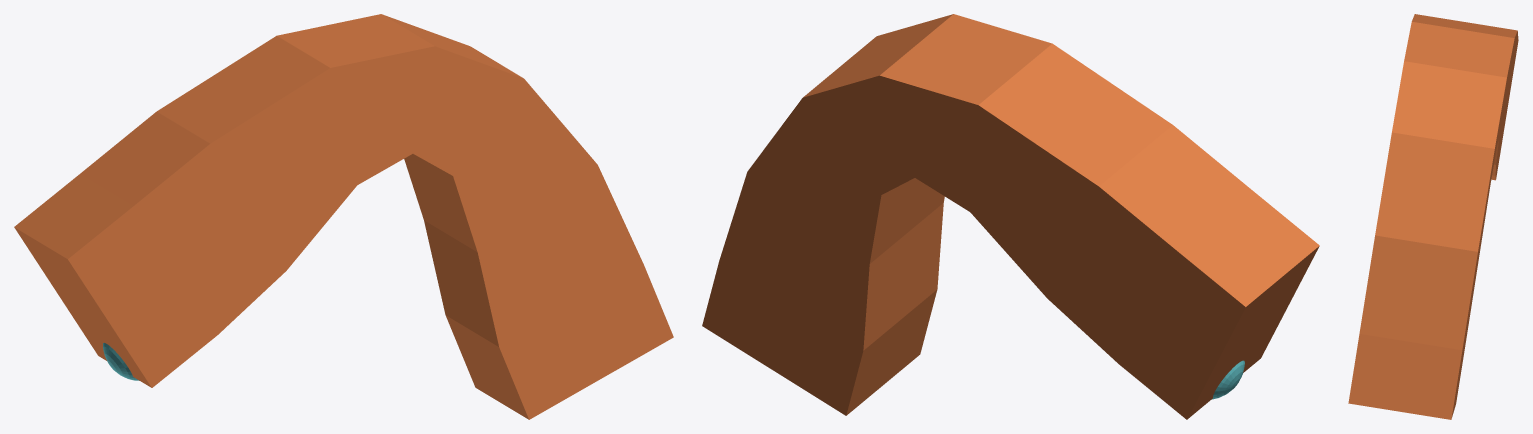
Rendered from limited-pose.glb.
The picture shows the model from 3 angles, left to right: view 1: azimuth 30°, elevation 25°; view 2: azimuth 150°, elevation 25°; view 3: azimuth 270°, elevation 25°; orthographic projection. The views are drawn at different scales.
Parts seen in each view (by area): view 1: Flexible column · 当前姿态; view 2: Flexible column · 当前姿态; view 3: Flexible column · 当前姿态.
Part boxes in pixels (<box>): Flexible column · 当前姿态: <box>14,14,673,419</box>; Flexible column · 当前姿态: <box>702,14,1319,419</box>; Flexible column · 当前姿态: <box>1348,14,1518,419</box>.
Bounding box in the file's own units: 2.3 × 1.46 × 0.7179.
